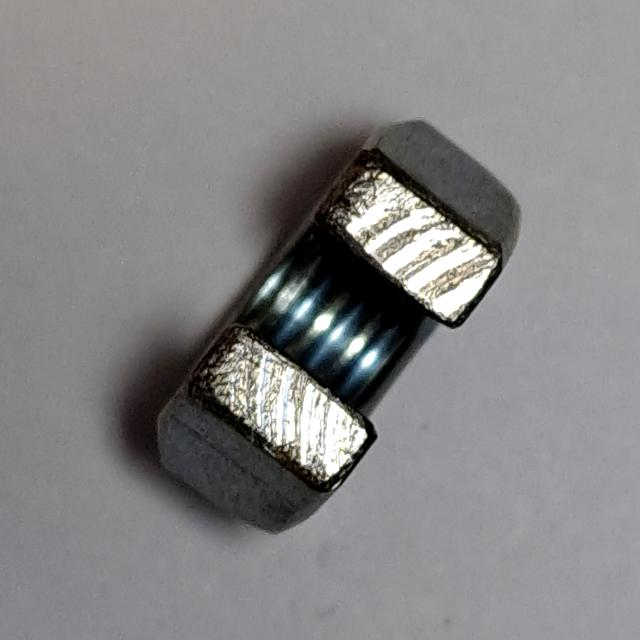Side-Fracture: (137, 102, 532, 556)
